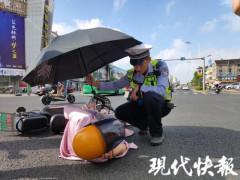Fall-Detected: (48, 103, 137, 165)
